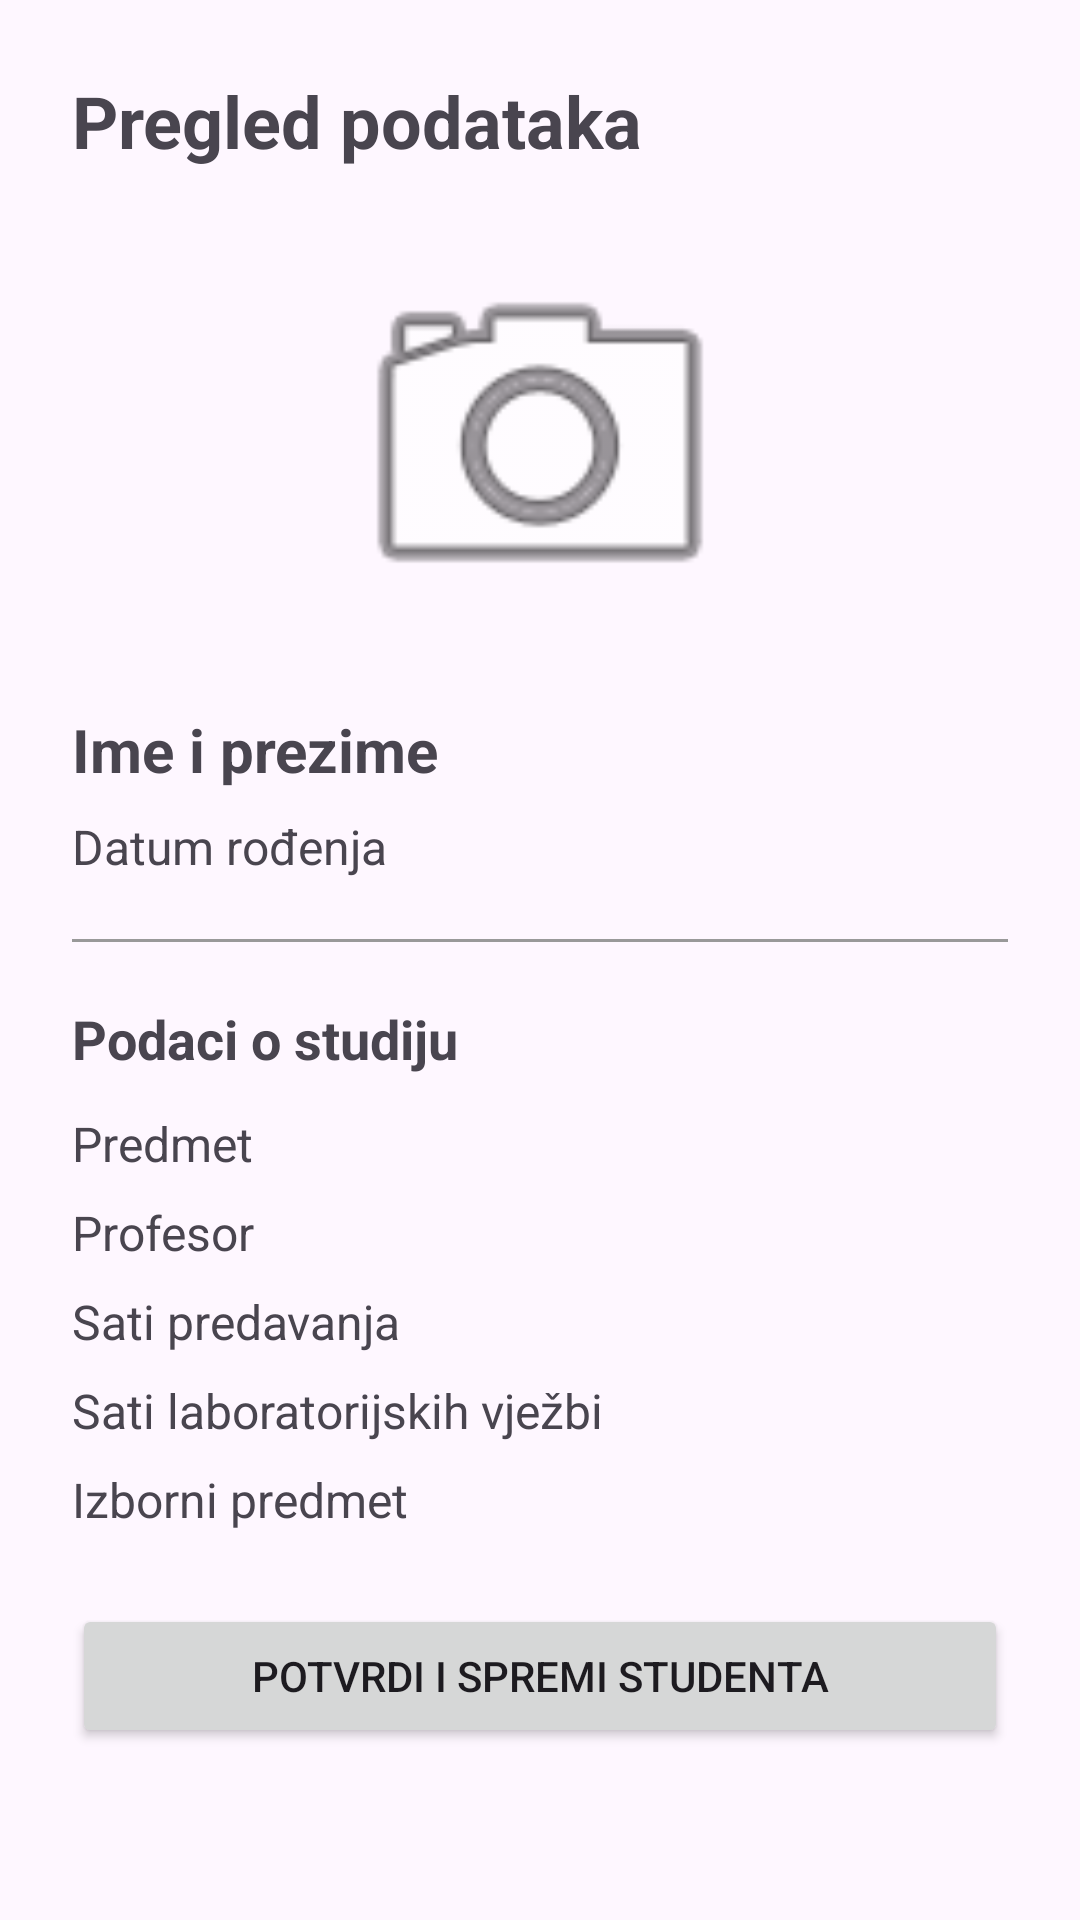

Named icons in this screenshot (1080 × 1920) and their bounding boxes, (x1, y1, x2, y2):
Fotografija studenta: (377, 303, 703, 562)
